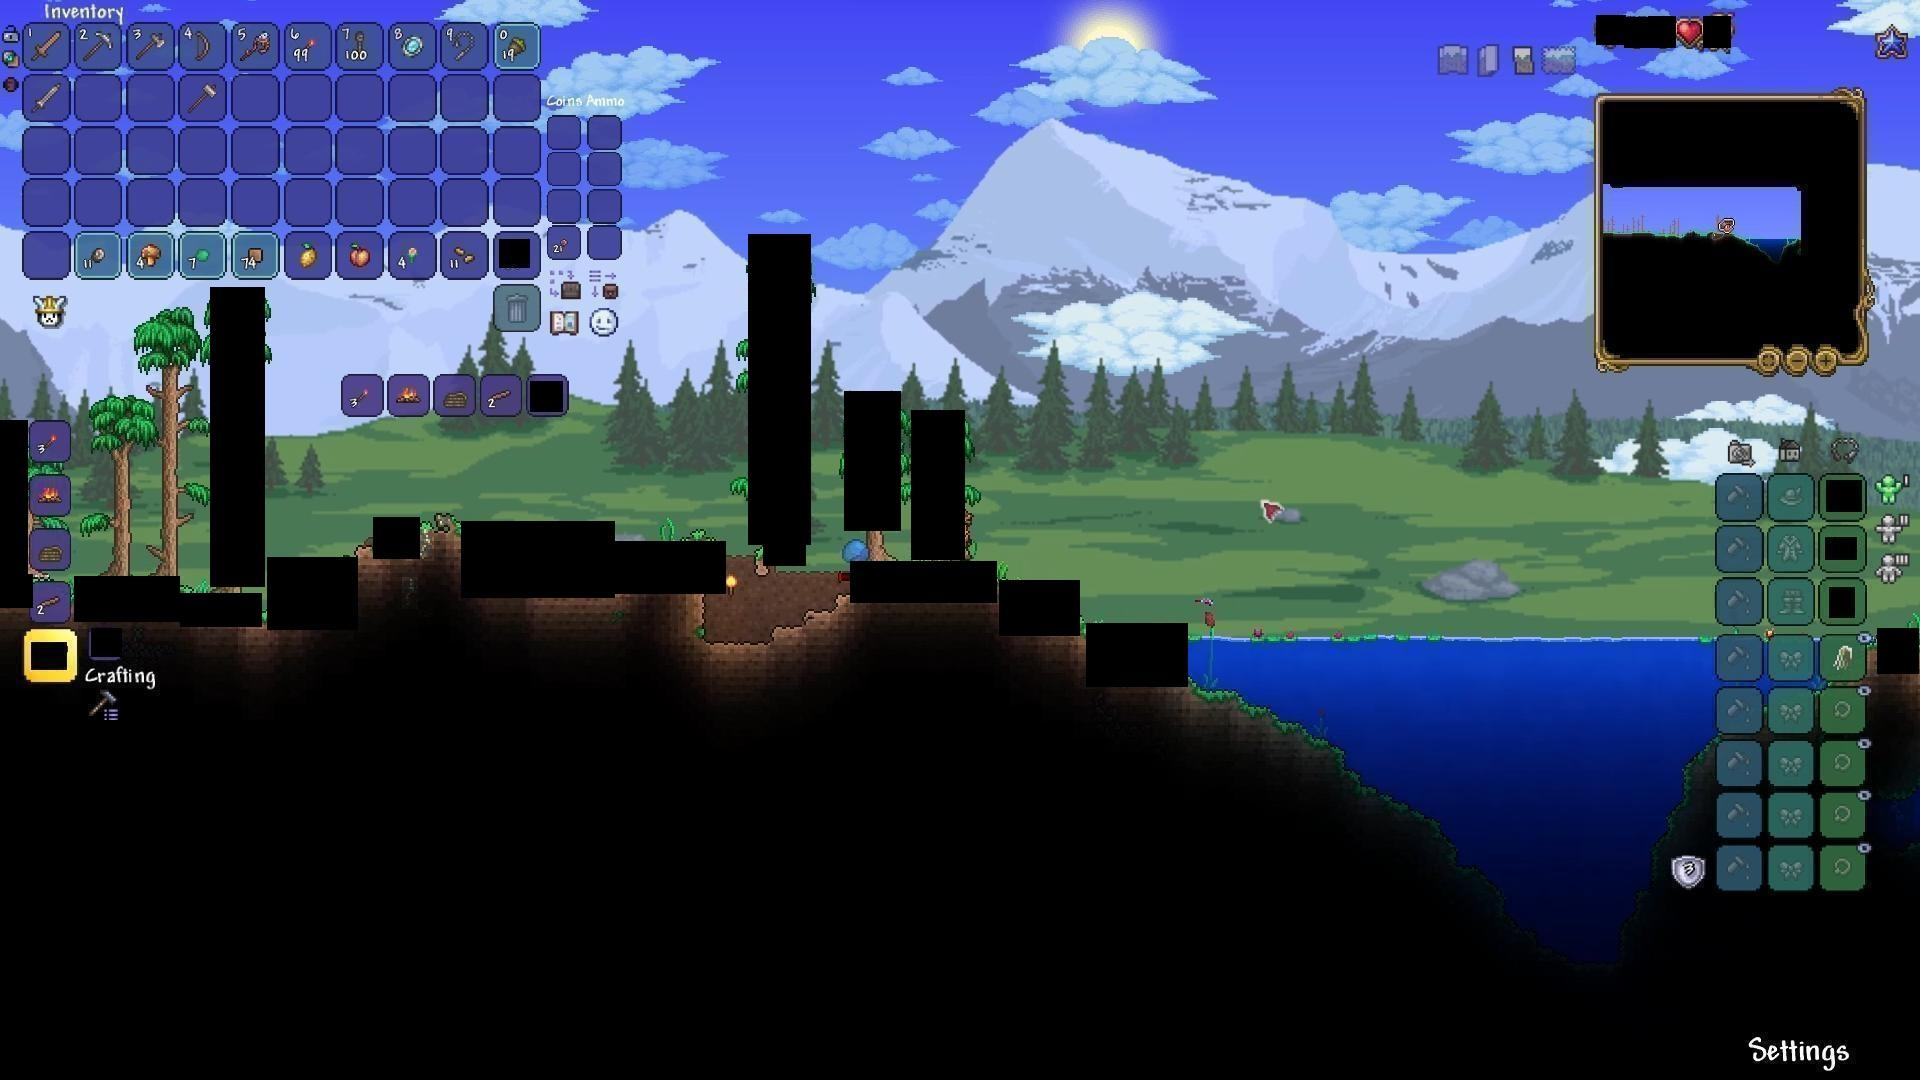heart: (1676, 17, 1704, 47)
slime: (839, 535, 873, 568)
tree: (140, 301, 198, 576), (82, 390, 142, 574)
